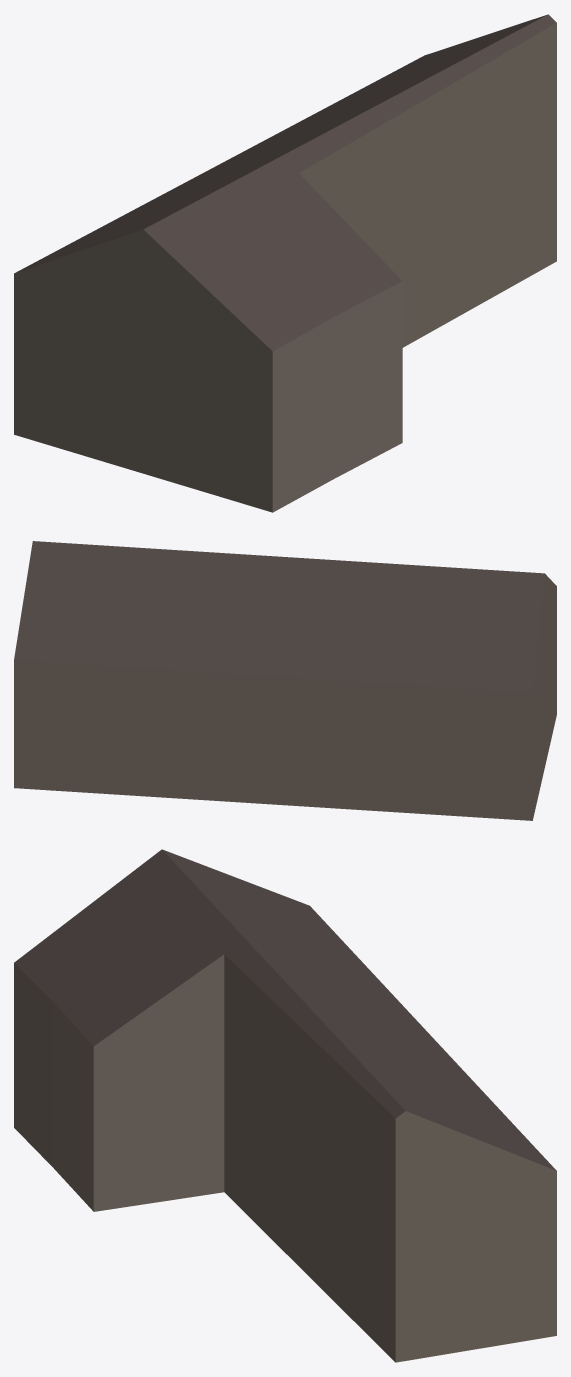
The picture shows the model from 3 angles, top to bottom: view 1: azimuth 30°, elevation 25°; view 2: azimuth 150°, elevation 25°; view 3: azimuth 270°, elevation 25°; orthographic projection. The views are drawn at different scales.
Parts seen in each view (by area): view 1: HP-w1516161942; view 2: HP-w1516161942; view 3: HP-w1516161942.
Boxes of the visible parts, bbox=[...] form: HP-w1516161942: bbox=[14, 14, 556, 512]; HP-w1516161942: bbox=[14, 541, 556, 820]; HP-w1516161942: bbox=[14, 849, 556, 1362].
Size of the model in its own units: 34.17 by 13.64 by 26.85.
